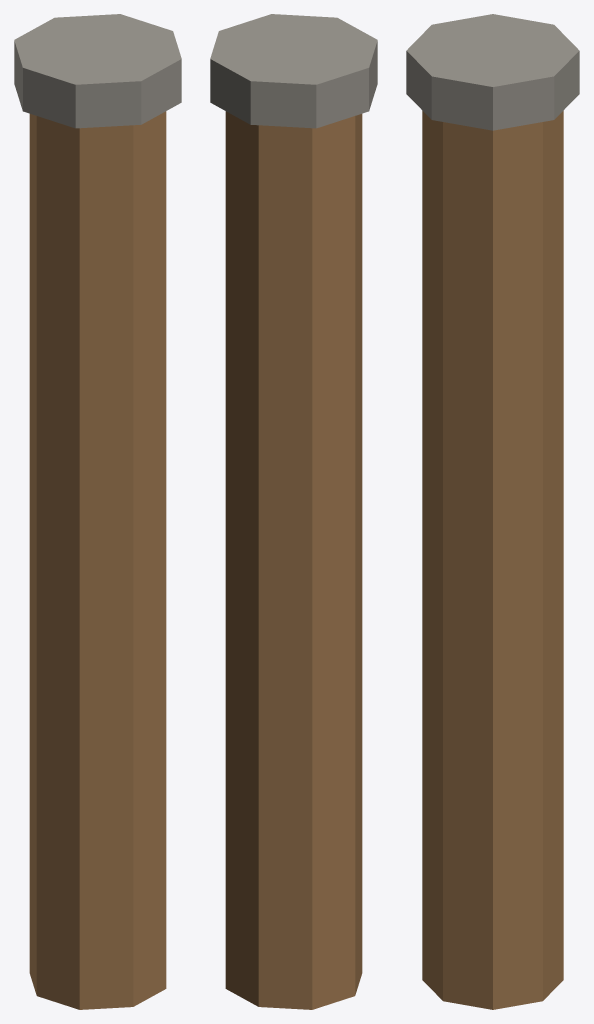
Rendered from pier_post.glb.
3 views of the same model, side by side, from view 1: azimuth 30°, elevation 25°; view 2: azimuth 150°, elevation 25°; view 3: azimuth 270°, elevation 25° (orthographic).
Parts seen in each view (by area): view 1: SM_ENV_pier_post; view 2: SM_ENV_pier_post; view 3: SM_ENV_pier_post.
Part boxes in pixels (x1=…): SM_ENV_pier_post: x1=14, y1=14, x2=181, y2=1009; SM_ENV_pier_post: x1=210, y1=14, x2=377, y2=1009; SM_ENV_pier_post: x1=406, y1=14, x2=579, y2=1009.
Size of the model in its own units: 0.54 by 3.2 by 0.54.
